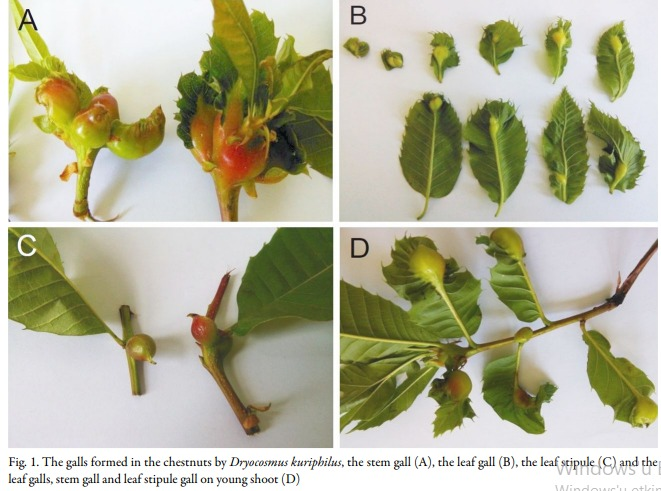galarisi: (388, 232, 651, 440), (27, 59, 299, 198), (102, 280, 254, 409), (578, 107, 655, 205), (586, 32, 645, 97), (534, 17, 580, 98), (415, 27, 474, 88)
